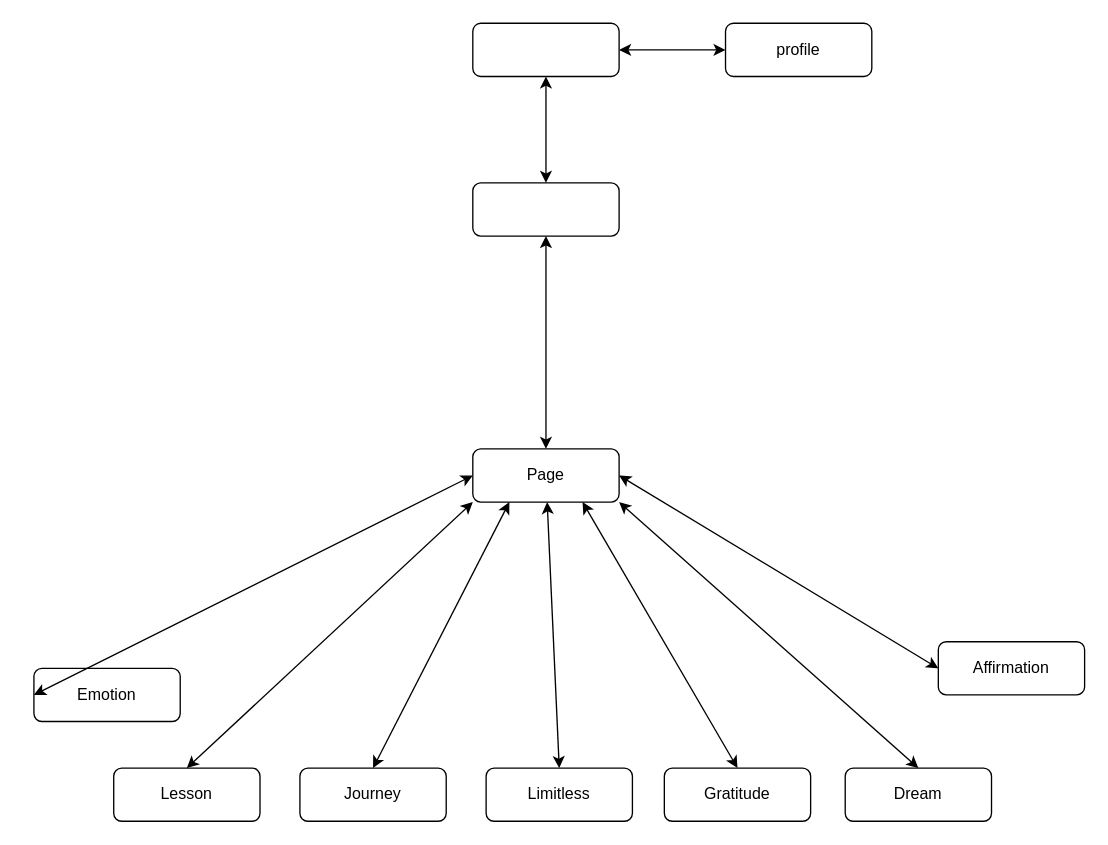
Some shapes in this 1108 by 845 pixel diagram are drawn without their labels. The shapes that lost their labels are listed below. From the top down, each one's centre as x and y in pixels, then its label:
At point 545,49: "User".
At point 545,209: "Book".
